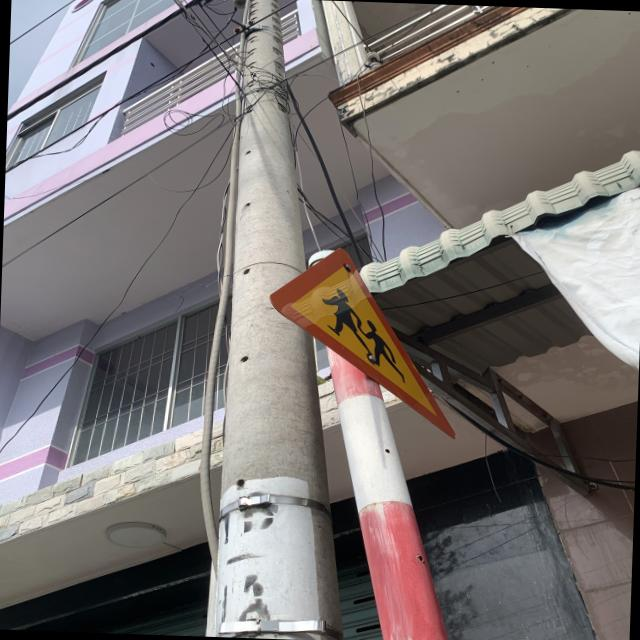Vong_Xuyen: (264, 244, 462, 441)
